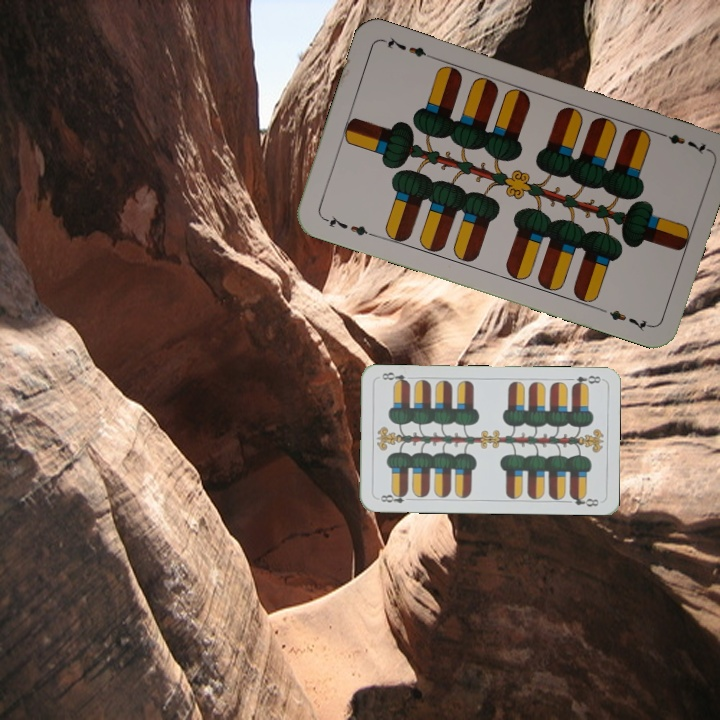E7: (653, 127, 711, 158), (319, 212, 377, 240)
E8: (374, 488, 414, 506), (568, 371, 603, 390)
